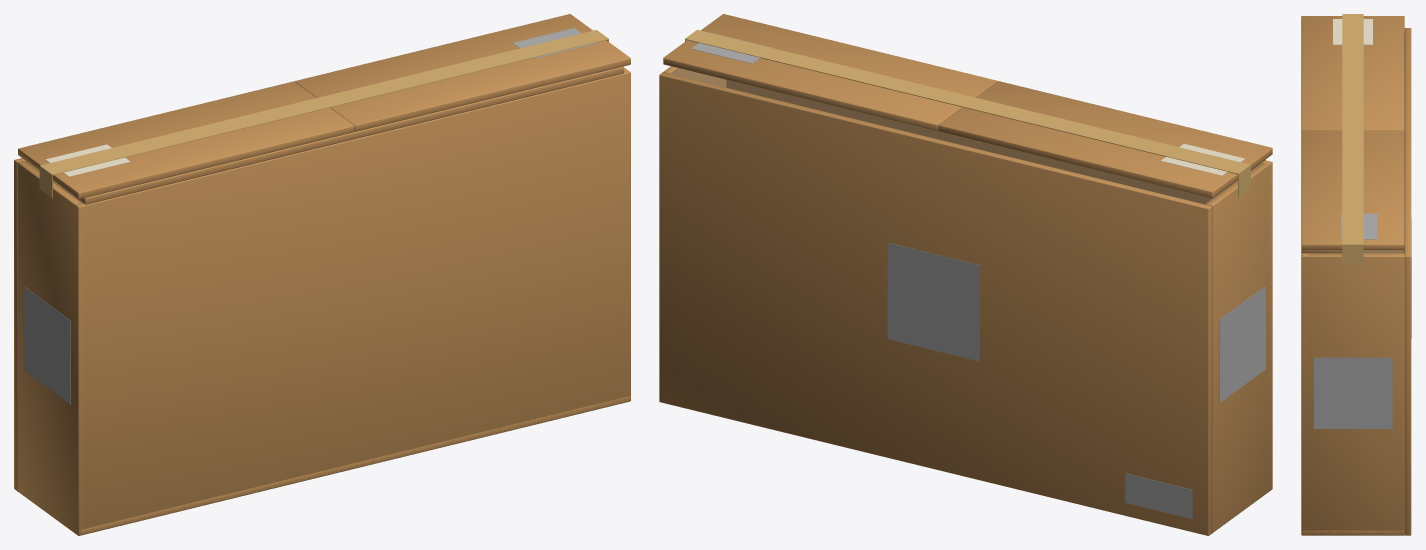
3 views of the same model, side by side, from view 1: azimuth 30°, elevation 25°; view 2: azimuth 150°, elevation 25°; view 3: azimuth 270°, elevation 25° (orthographic). The views are drawn at different scales.
Visible parts, largest first — view 1: box_7x4, FlapR, FlapL, Tape, FlapB, Front; view 2: Front, box_7x4, FlapR, FlapL, Tape; view 3: box_7x4, FlapL, FlapR, Tape, Front, FlapB.
Boxes of the visible parts, box(x1,y1,x2,y2) form: box_7x4: box(17, 67, 630, 535); FlapR: box(18, 81, 354, 199); FlapL: box(294, 14, 630, 131); Tape: box(39, 30, 608, 197); FlapB: box(57, 66, 623, 204); Front: box(14, 158, 80, 490); Front: box(659, 72, 1212, 535); box_7x4: box(663, 66, 1272, 533); FlapR: box(938, 81, 1272, 198); FlapL: box(663, 14, 997, 131); Tape: box(685, 29, 1250, 196); box_7x4: box(1301, 28, 1404, 535); FlapL: box(1301, 130, 1404, 249); FlapR: box(1301, 16, 1404, 130); Tape: box(1342, 14, 1363, 264); Front: box(1404, 28, 1411, 535); FlapB: box(1301, 249, 1342, 253).
Bounding box in the file's own units: 1.81 × 1.07 × 0.3649.
